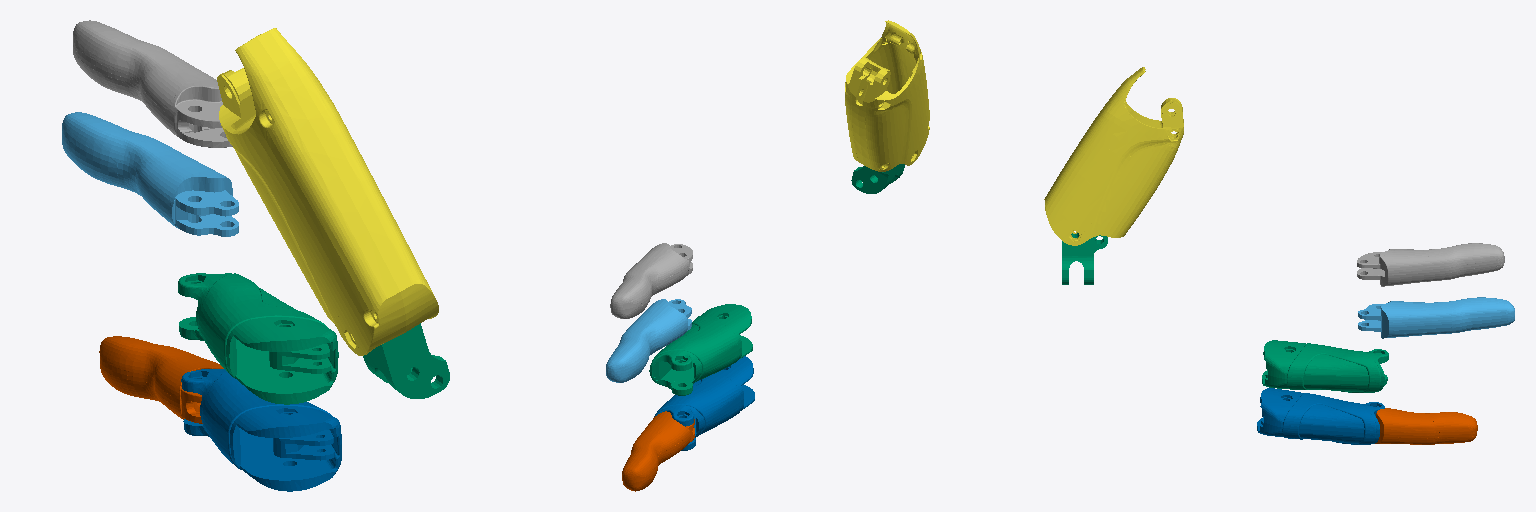
The robot description file, URDF, robot "franka_inspire":
<?xml version="1.0" encoding="UTF-8"?>
<robot name="franka_inspire">
  <joint name="connector_joint" type="fixed">
    <origin xyz="0. 0. 0." rpy="0. 1.5707963 0. "/>
    <parent link="panda_link7"/>
    <child link="connector"/>
  </joint>
  <joint name="joint11" type="revolute">
    <origin xyz="-0.020295 -0.0093701 -0.0169261" rpy="-1.5708424 -0.0000107 -1.5707961"/>
    <parent link="base_link"/>
    <child link="link11"/>
    <axis xyz="1. 0. 0."/>
    <limit lower="0." upper="1.3089969" effort="50." velocity="17.4532925"/>
  </joint>
  <joint name="joint12" type="revolute">
    <origin xyz="0.0007801 0.0078047 -0.0098723" rpy="0.0000002 -0.2829004 1.5707961"/>
    <parent link="link11"/>
    <child link="link12"/>
    <axis xyz="1. 0. 0."/>
    <limit lower="0." upper="0.6806784" effort="50." velocity="17.4532925"/>
  </joint>
  <joint name="joint13" type="revolute">
    <origin xyz="-0.0048281 0.0345311 -0.0441658" rpy="0.0000107 -0.0000042 0.0000022"/>
    <parent link="link12"/>
    <child link="link13"/>
    <axis xyz="1. 0. 0."/>
    <limit lower="0." upper="0.8028515" effort="50." velocity="17.4532925"/>
  </joint>
  <joint name="joint14" type="revolute">
    <origin xyz="0.003628 0.0101778 -0.0201527" rpy="0.0000002 0. 0.0000002"/>
    <parent link="link13"/>
    <child link="link14"/>
    <axis xyz="1. 0. 0."/>
    <limit lower="0." upper="0.5934119" effort="50." velocity="17.4532925"/>
  </joint>
  <joint name="joint21" type="revolute">
    <origin xyz="-0.0260863 0.0667855 0.0003612" rpy="0.0349067 -1.5707963 0. "/>
    <parent link="base_link"/>
    <child link="link21"/>
    <axis xyz="0. 0. 1."/>
    <limit lower="0." upper="1.5358897" effort="50." velocity="17.4532925"/>
  </joint>
  <joint name="joint22" type="revolute">
    <origin xyz="-0.0026924 0.0319864 0.0032367" rpy="-0.000638 -1.5707536 0.0006361"/>
    <parent link="link21"/>
    <child link="link22"/>
    <axis xyz="1. 0. 0."/>
    <limit lower="0." upper="1.9896753" effort="50." velocity="17.4532925"/>
  </joint>
  <joint name="joint31" type="revolute">
    <origin xyz="-0.0067478 0.0670376 0.0002022" rpy="0.0000001 -1.5707963 0. "/>
    <parent link="base_link"/>
    <child link="link31"/>
    <axis xyz="0. 0. 1."/>
    <limit lower="0." upper="1.5358897" effort="50." velocity="17.4532925"/>
  </joint>
  <joint name="joint32" type="revolute">
    <origin xyz="-0.0023337 0.0321041 0.0032518" rpy="3.1320593 -1.5707928 -3.1320632"/>
    <parent link="link31"/>
    <child link="link32"/>
    <axis xyz="1. 0. 0."/>
    <limit lower="0." upper="1.9896753" effort="50." velocity="17.4532925"/>
  </joint>
  <joint name="joint41" type="revolute">
    <origin xyz="0.0123004 0.0666214 0.0002965" rpy="1.568932 -1.5707614 -1.6212919"/>
    <parent link="base_link"/>
    <child link="link41"/>
    <axis xyz="0. 0. 1."/>
    <limit lower="0." upper="1.5358897" effort="50." velocity="17.4532925"/>
  </joint>
  <joint name="joint42" type="revolute">
    <origin xyz="-0.0024386 0.0320147 0.0030701" rpy="1.6141942 -1.5707926 -1.6141211"/>
    <parent link="link41"/>
    <child link="link42"/>
    <axis xyz="1. 0. 0."/>
    <limit lower="0." upper="1.9896753" effort="50." velocity="17.4532925"/>
  </joint>
  <joint name="joint51" type="revolute">
    <origin xyz="0.0315924 0.0651198 0.00031 " rpy="-0.1047196 -1.5707964 0. "/>
    <parent link="base_link"/>
    <child link="link51"/>
    <axis xyz="0. 0. 1."/>
    <limit lower="0." upper="1.5358897" effort="50." velocity="17.4532925"/>
  </joint>
  <joint name="joint52" type="revolute">
    <origin xyz="-0.0024521 0.0319946 0.0031837" rpy="1.5687608 -1.5707932 -1.5687225"/>
    <parent link="link51"/>
    <child link="link52"/>
    <axis xyz="1. 0. 0."/>
    <limit lower="0." upper="1.9896753" effort="50." velocity="17.4532925"/>
  </joint>
  <joint name="palm_center_joint" type="fixed">
    <origin xyz="0. 0. 115.72177" rpy="-1.5707964 1.5707964 0. "/>
    <parent link="connector"/>
    <child link="palm_center"/>
  </joint>
  <joint name="palm_joint" type="fixed">
    <origin xyz="0.0194858 0. -0.1317191" rpy="-1.5707964 0. -1.5707964"/>
    <parent link="palm_center"/>
    <child link="base_link"/>
  </joint>
  <joint name="panda_joint1" type="revolute">
    <origin xyz="0. 0. 0.333" rpy="0. -1.5707963 0. "/>
    <parent link="panda"/>
    <child link="panda_link1"/>
    <axis xyz="1. 0. 0."/>
    <limit lower="-2.8972998" upper="2.8972998" effort="87." velocity="2.1749999"/>
  </joint>
  <joint name="panda_joint2" type="revolute">
    <origin xyz="0. 0. 0." rpy="0. 0. 1.5707964"/>
    <parent link="panda_link1"/>
    <child link="panda_link2"/>
    <axis xyz="1. 0. 0."/>
    <limit lower="-1.7627999" upper="1.7627999" effort="87." velocity="2.1749999"/>
  </joint>
  <joint name="panda_joint3" type="revolute">
    <origin xyz="0. -0.316 0. " rpy="0. 0. -1.5707964"/>
    <parent link="panda_link2"/>
    <child link="panda_link3"/>
    <axis xyz="1. 0. 0."/>
    <limit lower="-2.8972998" upper="2.8972998" effort="87." velocity="2.1749999"/>
  </joint>
  <joint name="panda_joint4" type="revolute">
    <origin xyz="0. 0. -0.0825" rpy="0. 0. -1.5707964"/>
    <parent link="panda_link3"/>
    <child link="panda_link4"/>
    <axis xyz="1. 0. 0."/>
    <limit lower="-3.0717997" upper="-0.0698" effort="87." velocity="2.1749999"/>
  </joint>
  <joint name="panda_joint5" type="revolute">
    <origin xyz="0. 0.384 0.0825" rpy="0. 0. 1.5707964"/>
    <parent link="panda_link4"/>
    <child link="panda_link5"/>
    <axis xyz="1. 0. 0."/>
    <limit lower="-2.8972998" upper="2.8972998" effort="12." velocity="2.6099999"/>
  </joint>
  <joint name="panda_joint6" type="revolute">
    <origin xyz="0. 0. 0." rpy="0. 0. -1.5707964"/>
    <parent link="panda_link5"/>
    <child link="panda_link6"/>
    <axis xyz="1. 0. 0."/>
    <limit lower="-0.0175" upper="3.7525" effort="12." velocity="2.6099999"/>
  </joint>
  <joint name="panda_joint7" type="revolute">
    <origin xyz="0. 0. -0.088" rpy="0. 0. -1.5707964"/>
    <parent link="panda_link6"/>
    <child link="panda_link7"/>
    <axis xyz="1. 0. 0."/>
    <limit lower="-2.8972998" upper="2.8972998" effort="12." velocity="2.6099999"/>
  </joint>
  <link name="base_link">
    <inertial>
      <origin xyz="0. 0. 0." rpy="0. 0. 0."/>
      <mass value="0.14143"/>
      <inertia ixx="0." ixy="0." ixz="0." iyy="0." iyz="0." izz="0."/>
    </inertial>
    <visual>
      <origin xyz="0. -0.07 -0. " rpy="-3.1415925 -1.5707964 0. "/>
      <geometry>
        <mesh filename="meshes/inspire/base_link_visuals.obj" scale="1. 1. 1."/>
      </geometry>
    </visual>
    <collision>
      <origin xyz="0. -0.07 -0. " rpy="-3.1415925 -1.5707964 0. "/>
      <geometry>
        <mesh filename="meshes/inspire/base_link_collisions.obj" scale="1. 1. 1."/>
      </geometry>
    </collision>
  </link>
  <link name="connector">
    <visual>
      <origin xyz="0. 0. 115.72177" rpy="-1.5707964 1.5707964 0. "/>
      <geometry>
        <mesh filename="meshes/inspire/connector_visuals.obj" scale="1. 1. 1."/>
      </geometry>
    </visual>
    <collision>
      <origin xyz="0. 0. 115.72177" rpy="-1.5707964 1.5707964 0. "/>
      <geometry>
        <mesh filename="meshes/inspire/connector_collisions.obj" scale="1. 1. 1."/>
      </geometry>
    </collision>
  </link>
  <link name="link11">
    <inertial>
      <origin xyz="0. 0. 0." rpy="0. 0. 0."/>
      <mass value="0.0018869"/>
      <inertia ixx="0." ixy="0." ixz="0." iyy="0." iyz="0." izz="0."/>
    </inertial>
    <visual>
      <origin xyz="0.0029801 -0.0055433 0.0029097" rpy="-0.2495321 -1.5707961 0.249532 "/>
      <geometry>
        <mesh filename="meshes/inspire/link11_collisions.obj" scale="1. 1. 1."/>
      </geometry>
    </visual>
    <collision>
      <origin xyz="0.0029801 -0.0055433 0.0029097" rpy="-0.2495321 -1.5707961 0.249532 "/>
      <geometry>
        <mesh filename="meshes/inspire/link11_collisions.obj" scale="1. 1. 1."/>
      </geometry>
    </collision>
  </link>
  <link name="link12">
    <inertial>
      <origin xyz="0. 0. 0." rpy="0. 0. 0."/>
      <mass value="0.0066075"/>
      <inertia ixx="0." ixy="0." ixz="0." iyy="0." iyz="0." izz="0."/>
    </inertial>
    <visual>
      <origin xyz="0. -0. 0." rpy="0. 1.5707963 0. "/>
      <geometry>
        <mesh filename="meshes/inspire/link12_visuals.obj" scale="1. 1. 1."/>
      </geometry>
    </visual>
    <collision>
      <origin xyz="0. -0. 0." rpy="0. 1.5707963 0. "/>
      <geometry>
        <mesh filename="meshes/inspire/link12_collisions.obj" scale="1. 1. 1."/>
      </geometry>
    </collision>
  </link>
  <link name="link13">
    <inertial>
      <origin xyz="0. 0. 0." rpy="0. 0. 0."/>
      <mass value="0.0037847"/>
      <inertia ixx="0." ixy="0." ixz="0." iyy="0." iyz="0." izz="0."/>
    </inertial>
    <visual>
      <origin xyz="0.001078 -0.0129012 -0.0033897" rpy="1.5707964 -1.5707961 -1.5707963"/>
      <geometry>
        <mesh filename="meshes/inspire/link13_collisions.obj" scale="1. 1. 1."/>
      </geometry>
    </visual>
    <collision>
      <origin xyz="0.001078 -0.0129012 -0.0033897" rpy="1.5707964 -1.5707961 -1.5707963"/>
      <geometry>
        <mesh filename="meshes/inspire/link13_collisions.obj" scale="1. 1. 1."/>
      </geometry>
    </collision>
  </link>
  <link name="link14">
    <inertial>
      <origin xyz="0. 0. 0." rpy="0. 0. 0."/>
      <mass value="0.0033441"/>
      <inertia ixx="0." ixy="0." ixz="0." iyy="0." iyz="0." izz="0."/>
    </inertial>
    <visual>
      <origin xyz="-0. -0. -0." rpy="-0.1087663 -1.5707961 0.1087663"/>
      <geometry>
        <mesh filename="meshes/inspire/link14_collisions.obj" scale="1. 1. 1."/>
      </geometry>
    </visual>
    <collision>
      <origin xyz="-0. -0. -0." rpy="-0.1087663 -1.5707961 0.1087663"/>
      <geometry>
        <mesh filename="meshes/inspire/link14_collisions.obj" scale="1. 1. 1."/>
      </geometry>
    </collision>
  </link>
  <link name="link21">
    <inertial>
      <origin xyz="0. 0. 0." rpy="0. 0. 0."/>
      <mass value="0.0042403"/>
      <inertia ixx="0." ixy="0." ixz="0." iyy="0." iyz="0." izz="0."/>
    </inertial>
    <visual>
      <origin xyz="0.0043274 -0.0054836 0.0010864" rpy="-3.1415927 -0.0000427 3.1415908"/>
      <geometry>
        <mesh filename="meshes/inspire/link21_collisions.obj" scale="1. 1. 1."/>
      </geometry>
    </visual>
    <collision>
      <origin xyz="0.0043274 -0.0054836 0.0010864" rpy="-3.1415927 -0.0000427 3.1415908"/>
      <geometry>
        <mesh filename="meshes/inspire/link21_collisions.obj" scale="1. 1. 1."/>
      </geometry>
    </collision>
  </link>
  <link name="link22">
    <inertial>
      <origin xyz="0. 0. 0." rpy="0. 0. 0."/>
      <mass value="0.0045683"/>
      <inertia ixx="0." ixy="0." ixz="0." iyy="0." iyz="0." izz="0."/>
    </inertial>
    <visual>
      <origin xyz="0. 0. 0." rpy="0. -1.5707963 0. "/>
      <geometry>
        <mesh filename="meshes/inspire/link22_collisions.obj" scale="1. 1. 1."/>
      </geometry>
    </visual>
    <collision>
      <origin xyz="0. 0. 0." rpy="0. -1.5707963 0. "/>
      <geometry>
        <mesh filename="meshes/inspire/link22_collisions.obj" scale="1. 1. 1."/>
      </geometry>
    </collision>
  </link>
  <link name="link31">
    <inertial>
      <origin xyz="0. 0. 0." rpy="0. 0. 0."/>
      <mass value="0.0042403"/>
      <inertia ixx="0." ixy="0." ixz="0." iyy="0." iyz="0." izz="0."/>
    </inertial>
    <visual>
      <origin xyz="0.0044599 -0.0054049 0.0011019" rpy="3.1415925 0.0000036 3.141589 "/>
      <geometry>
        <mesh filename="meshes/inspire/link31_visuals.obj" scale="1. 1. 1."/>
      </geometry>
    </visual>
    <collision>
      <origin xyz="0.0044599 -0.0054049 0.0011019" rpy="3.1415925 0.0000036 3.141589 "/>
      <geometry>
        <mesh filename="meshes/inspire/link31_collisions.obj" scale="1. 1. 1."/>
      </geometry>
    </collision>
  </link>
  <link name="link32">
    <inertial>
      <origin xyz="0. 0. 0." rpy="0. 0. 0."/>
      <mass value="0.0050396"/>
      <inertia ixx="0." ixy="0." ixz="0." iyy="0." iyz="0." izz="0."/>
    </inertial>
    <visual>
      <origin xyz="-0. 0. -0." rpy="-0.1435916 -1.5707961 0.1435916"/>
      <geometry>
        <mesh filename="meshes/inspire/link32_visuals.obj" scale="1. 1. 1."/>
      </geometry>
    </visual>
    <collision>
      <origin xyz="-0. 0. -0." rpy="-0.1435916 -1.5707961 0.1435916"/>
      <geometry>
        <mesh filename="meshes/inspire/link32_collisions.obj" scale="1. 1. 1."/>
      </geometry>
    </collision>
  </link>
  <link name="link41">
    <inertial>
      <origin xyz="0. 0. 0." rpy="0. 0. 0."/>
      <mass value="0.0042403"/>
      <inertia ixx="0." ixy="0." ixz="0." iyy="0." iyz="0." izz="0."/>
    </inertial>
    <visual>
      <origin xyz="0.0043579 -0.0054936 0.00092 " rpy="3.1415892 0.0000002 -3.1415195"/>
      <geometry>
        <mesh filename="meshes/inspire/link41_visuals.obj" scale="1. 1. 1."/>
      </geometry>
    </visual>
    <collision>
      <origin xyz="0.0043579 -0.0054936 0.00092 " rpy="3.1415892 0.0000002 -3.1415195"/>
      <geometry>
        <mesh filename="meshes/inspire/link41_collisions.obj" scale="1. 1. 1."/>
      </geometry>
    </collision>
  </link>
  <link name="link42">
    <inertial>
      <origin xyz="0. 0. 0." rpy="0. 0. 0."/>
      <mass value="0.0045683"/>
      <inertia ixx="0." ixy="0." ixz="0." iyy="0." iyz="0." izz="0."/>
    </inertial>
    <visual>
      <origin xyz="0. 0.0000003 -0. " rpy="0.6845859 -1.5707961 -0.6845856"/>
      <geometry>
        <mesh filename="meshes/inspire/link42_collisions.obj" scale="1. 1. 1."/>
      </geometry>
    </visual>
    <collision>
      <origin xyz="0. 0.0000003 -0. " rpy="0.6845859 -1.5707961 -0.6845856"/>
      <geometry>
        <mesh filename="meshes/inspire/link42_collisions.obj" scale="1. 1. 1."/>
      </geometry>
    </collision>
  </link>
  <link name="link51">
    <inertial>
      <origin xyz="0. 0. 0." rpy="0. 0. 0."/>
      <mass value="0.0042403"/>
      <inertia ixx="0." ixy="0." ixz="0." iyy="0." iyz="0." izz="0."/>
    </inertial>
    <visual>
      <origin xyz="0.004343 -0.0055141 0.0010335" rpy="3.1415894 -0. -3.1415544"/>
      <geometry>
        <mesh filename="meshes/inspire/link51_collisions.obj" scale="1. 1. 1."/>
      </geometry>
    </visual>
    <collision>
      <origin xyz="0.004343 -0.0055141 0.0010335" rpy="3.1415894 -0. -3.1415544"/>
      <geometry>
        <mesh filename="meshes/inspire/link51_collisions.obj" scale="1. 1. 1."/>
      </geometry>
    </collision>
  </link>
  <link name="link52">
    <inertial>
      <origin xyz="0. 0. 0." rpy="0. 0. 0."/>
      <mass value="0.0035996"/>
      <inertia ixx="0." ixy="0." ixz="0." iyy="0." iyz="0." izz="0."/>
    </inertial>
    <visual>
      <origin xyz="0. 0. 0." rpy="-0. -1.5707963 0. "/>
      <geometry>
        <mesh filename="meshes/inspire/link52_collisions.obj" scale="1. 1. 1."/>
      </geometry>
    </visual>
    <collision>
      <origin xyz="0. 0. 0." rpy="-0. -1.5707963 0. "/>
      <geometry>
        <mesh filename="meshes/inspire/link52_collisions.obj" scale="1. 1. 1."/>
      </geometry>
    </collision>
  </link>
  <link name="palm_center"/>
  <link name="panda">
    <visual>
      <origin xyz="0. 0. 0." rpy="0. 0. 0."/>
      <geometry>
        <mesh filename="meshes/visual/link0.obj" scale="1. 1. 1."/>
      </geometry>
    </visual>
    <collision>
      <origin xyz="0. 0. 0." rpy="0. 0. 0."/>
      <geometry>
        <mesh filename="meshes/collision/link0.obj" scale="1. 1. 1."/>
      </geometry>
    </collision>
  </link>
  <link name="panda_link1">
    <visual>
      <origin xyz="0. 0. 0." rpy="0. 1.5707963 0. "/>
      <geometry>
        <mesh filename="meshes/visual/link1.obj" scale="1. 1. 1."/>
      </geometry>
    </visual>
    <collision>
      <origin xyz="0. 0. 0." rpy="0. 1.5707963 0. "/>
      <geometry>
        <mesh filename="meshes/collision/link1.obj" scale="1. 1. 1."/>
      </geometry>
    </collision>
  </link>
  <link name="panda_link2">
    <visual>
      <origin xyz="0. 0. 0." rpy="0. 1.5707963 0. "/>
      <geometry>
        <mesh filename="meshes/visual/link2.obj" scale="1. 1. 1."/>
      </geometry>
    </visual>
    <collision>
      <origin xyz="0. 0. 0." rpy="0. 1.5707963 0. "/>
      <geometry>
        <mesh filename="meshes/collision/link2.obj" scale="1. 1. 1."/>
      </geometry>
    </collision>
  </link>
  <link name="panda_link3">
    <visual>
      <origin xyz="0. 0. 0." rpy="0. 1.5707963 0. "/>
      <geometry>
        <mesh filename="meshes/visual/link3.obj" scale="1. 1. 1."/>
      </geometry>
    </visual>
    <collision>
      <origin xyz="0. 0. 0." rpy="0. 1.5707963 0. "/>
      <geometry>
        <mesh filename="meshes/collision/link3.obj" scale="1. 1. 1."/>
      </geometry>
    </collision>
  </link>
  <link name="panda_link4">
    <visual>
      <origin xyz="0. 0. 0." rpy="0. 1.5707963 0. "/>
      <geometry>
        <mesh filename="meshes/visual/link4.obj" scale="1. 1. 1."/>
      </geometry>
    </visual>
    <collision>
      <origin xyz="0. 0. 0." rpy="0. 1.5707963 0. "/>
      <geometry>
        <mesh filename="meshes/collision/link4.obj" scale="1. 1. 1."/>
      </geometry>
    </collision>
  </link>
  <link name="panda_link5">
    <visual>
      <origin xyz="0. 0. 0." rpy="0. 1.5707963 0. "/>
      <geometry>
        <mesh filename="meshes/collision/link5.obj" scale="1. 1. 1."/>
      </geometry>
    </visual>
    <collision>
      <origin xyz="0. 0. 0." rpy="0. 1.5707963 0. "/>
      <geometry>
        <mesh filename="meshes/collision/link5.obj" scale="1. 1. 1."/>
      </geometry>
    </collision>
  </link>
  <link name="panda_link6">
    <visual>
      <origin xyz="0. 0. 0." rpy="0. 1.5707963 0. "/>
      <geometry>
        <mesh filename="meshes/visual/link6.obj" scale="1. 1. 1."/>
      </geometry>
    </visual>
    <collision>
      <origin xyz="0. 0. 0." rpy="0. 1.5707963 0. "/>
      <geometry>
        <mesh filename="meshes/collision/link6.obj" scale="1. 1. 1."/>
      </geometry>
    </collision>
  </link>
  <link name="panda_link7">
    <visual>
      <origin xyz="0. 0. 0." rpy="0. 1.5707963 0. "/>
      <geometry>
        <mesh filename="meshes/collision/link7.obj" scale="1. 1. 1."/>
      </geometry>
    </visual>
    <collision>
      <origin xyz="0. 0. 0." rpy="0. 1.5707963 0. "/>
      <geometry>
        <mesh filename="meshes/collision/link7.obj" scale="1. 1. 1."/>
      </geometry>
    </collision>
  </link>
</robot>

--- What the picture shows (computed from the rendered views, not written in the file) ---
Views: 3 orthographic renders of the robot side by side, from view 1: azimuth 30°, elevation 25°; view 2: azimuth 150°, elevation 25°; view 3: azimuth 270°, elevation 25°.
Robot: franka_inspire — 23 links, 22 joints (19 revolute, 3 fixed); root link panda; default pose: joints at zero except 1 at the middle of their limits (panda_joint4 = -1.57).
Visible links, largest first — view 1: link12, link41, link51, link32, link22, link52, link11; view 2: link12, link41, link51, link32, link22, link52, link11; view 3: link12, link41, link51, link32, link22, link52, link11.
Link boxes in pixels (box(x1,y1,x2,y2)): link12: box(217, 28, 438, 355); link41: box(178, 273, 338, 404); link51: box(181, 369, 341, 491); link32: box(62, 112, 238, 236); link22: box(73, 20, 232, 147); link52: box(99, 336, 223, 423); link11: box(363, 323, 449, 398); link12: box(845, 20, 929, 171); link41: box(649, 304, 752, 395); link51: box(654, 356, 754, 450); link32: box(606, 299, 691, 382); link22: box(610, 243, 692, 318); link52: box(622, 411, 694, 491); link11: box(851, 164, 904, 193); link12: box(1044, 67, 1183, 245); link41: box(1262, 340, 1388, 392); link51: box(1257, 388, 1384, 444); link32: box(1358, 297, 1514, 338); link22: box(1357, 243, 1504, 286); link52: box(1375, 408, 1477, 444); link11: box(1062, 233, 1107, 284).
Bounding box of the posed robot: 0.0528 × 0.1691 × 0.1329 m (x, y, z).
Meshes: 22 distinct files referenced, 7 mesh visuals loaded (7 OBJ); not drawn: 15 (reference not matched to a file when rendering).